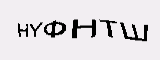Б: (57, 12, 76, 39)
Г: (35, 13, 54, 41)
Д: (97, 20, 114, 46)
Е: (81, 16, 98, 40)
У: (111, 22, 127, 45)
